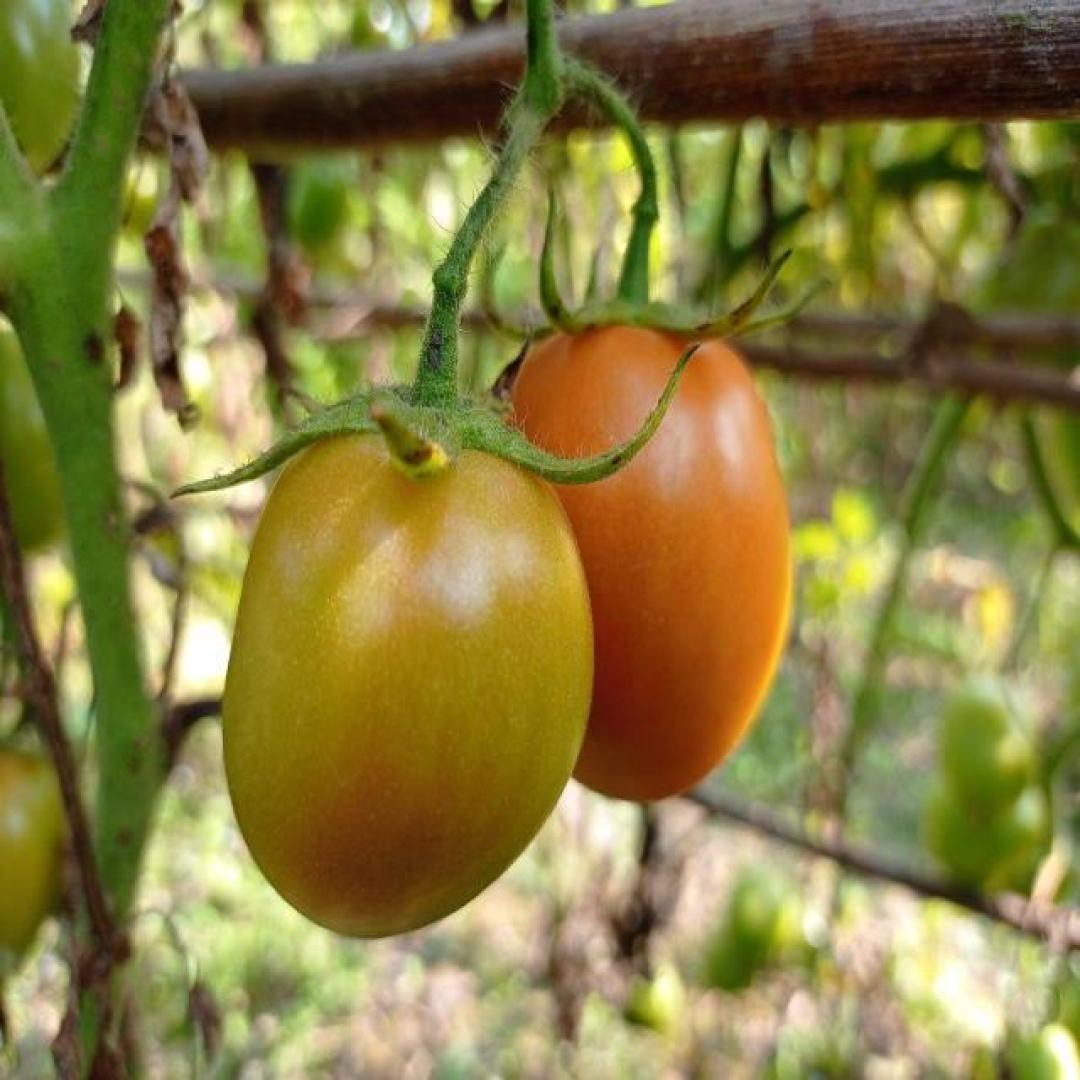setengah_matang: (218, 388, 602, 942), (496, 298, 793, 806)
